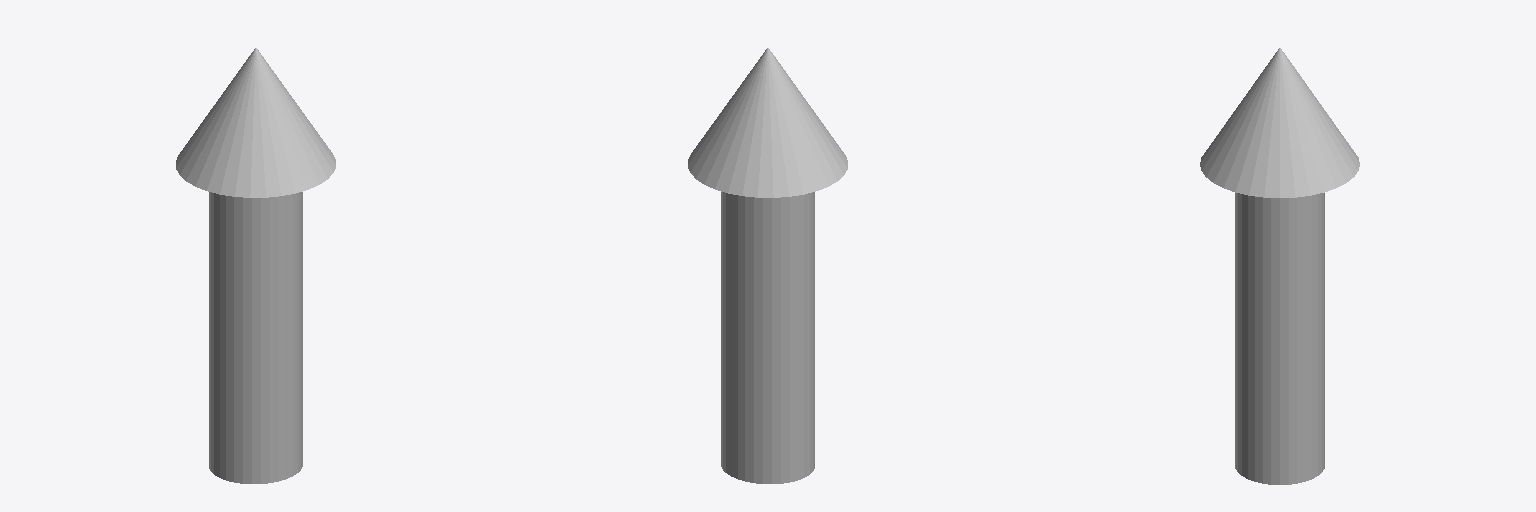
Rendered from moveArrow.obj.
The picture shows the model from 3 angles: view 1: azimuth 30°, elevation 25°; view 2: azimuth 150°, elevation 25°; view 3: azimuth 270°, elevation 25°; orthographic projection.
Visible parts, largest first — view 1: Cylinder; view 2: Cylinder; view 3: Cylinder.
Boxes of the visible parts, <box> form: Cylinder: <box>176,48,335,483</box>; Cylinder: <box>688,48,847,483</box>; Cylinder: <box>1200,48,1359,484</box>.
Bounding box in the file's own units: 1.08 × 3.09 × 1.07.